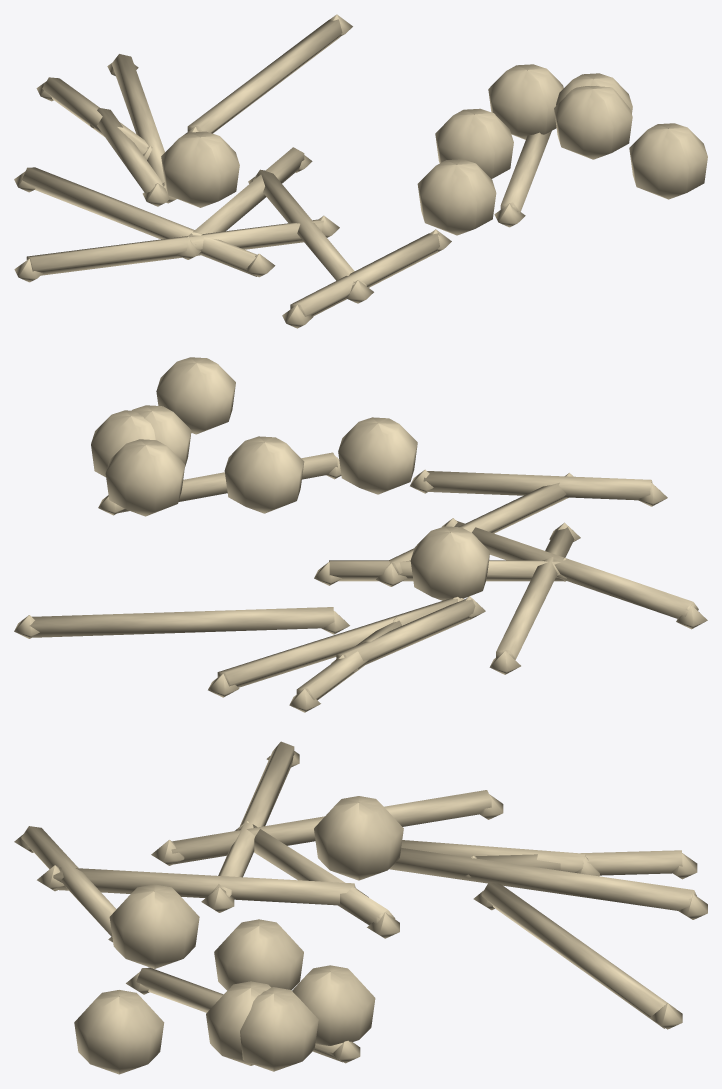
Rendered from Bones_Scatter_3.gltf.
3 views of the same model, one above another, from view 1: azimuth 30°, elevation 25°; view 2: azimuth 150°, elevation 25°; view 3: azimuth 270°, elevation 25° (orthographic). The views are drawn at different scales.
Visible parts, largest first — view 1: Bones_Scatter_3; view 2: Bones_Scatter_3; view 3: Bones_Scatter_3.
Boxes of the visible parts, x1,y1,x2,y2 form: Bones_Scatter_3: [14, 14, 707, 328]; Bones_Scatter_3: [14, 357, 707, 712]; Bones_Scatter_3: [14, 741, 707, 1074].
Size of the model in its own units: 1.91 by 0.21 by 1.7.
1 material, 1 textured.
